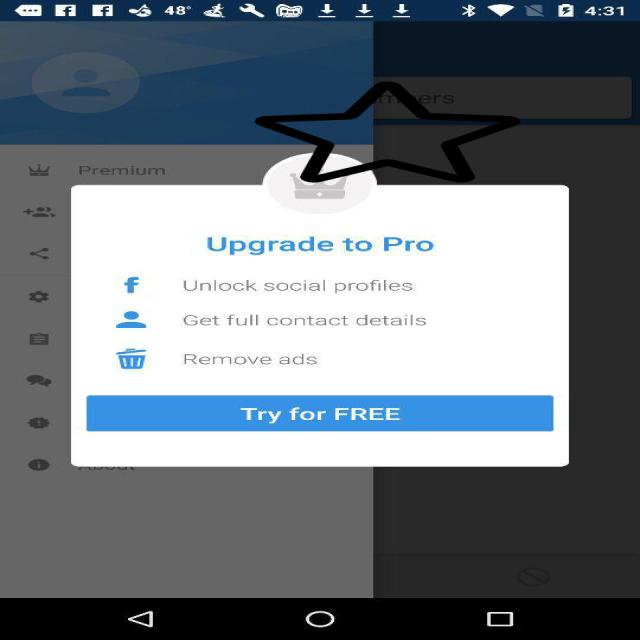forced continuity: (255, 79, 520, 185)
